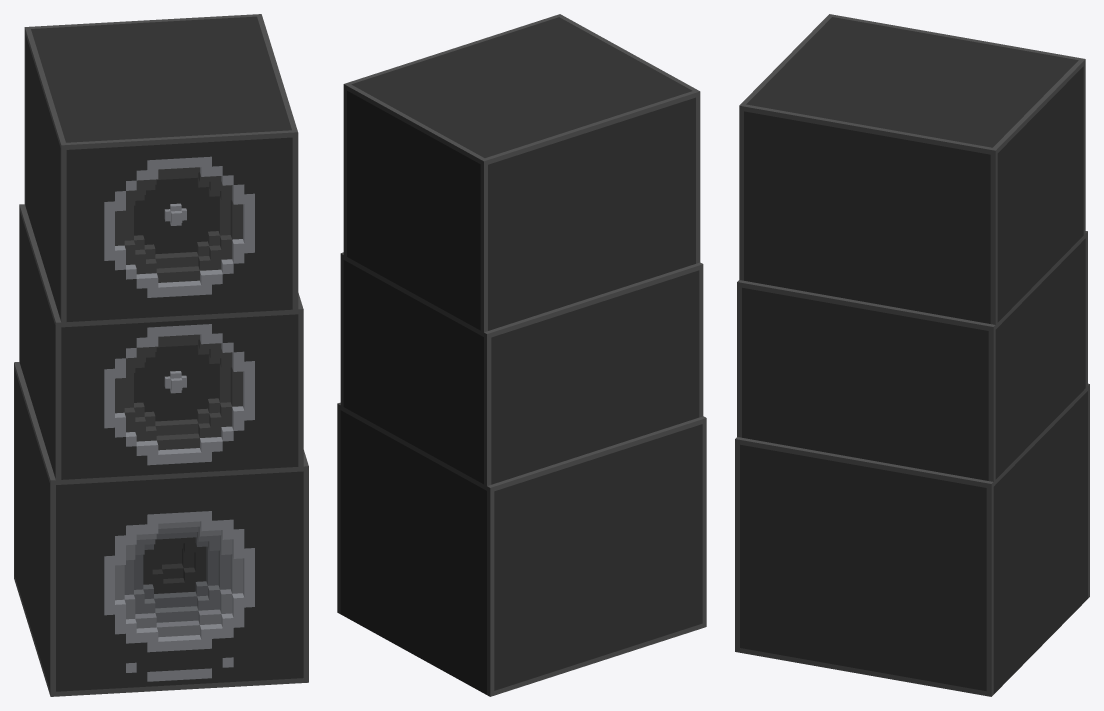
File: speaker_black.000_0_lev1_lev3.glb
3 renders of one model, left to right at view 1: azimuth 30°, elevation 25°; view 2: azimuth 150°, elevation 25°; view 3: azimuth 270°, elevation 25°, orthographic. The views are drawn at different scales.
Visible parts, largest first — view 1: speaker_black.000_0_lev1_lev3; view 2: speaker_black.000_0_lev1_lev3; view 3: speaker_black.000_0_lev1_lev3.
Boxes of the visible parts, bbox=[...] form: speaker_black.000_0_lev1_lev3: bbox=[14, 14, 308, 696]; speaker_black.000_0_lev1_lev3: bbox=[337, 14, 706, 696]; speaker_black.000_0_lev1_lev3: bbox=[735, 14, 1089, 696].
Bounding box in the file's own units: 0.9525 × 1.66 × 0.9845.
Materials: 1 (1 with a texture image).
